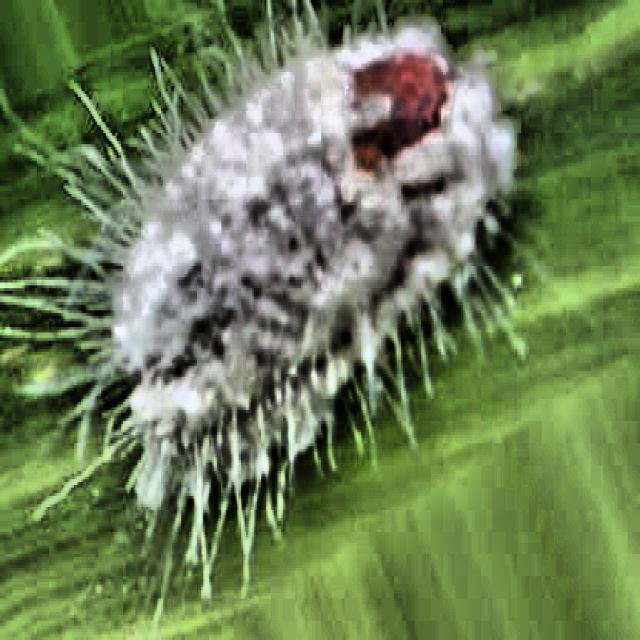Mealy-bug: (56, 4, 545, 562)
